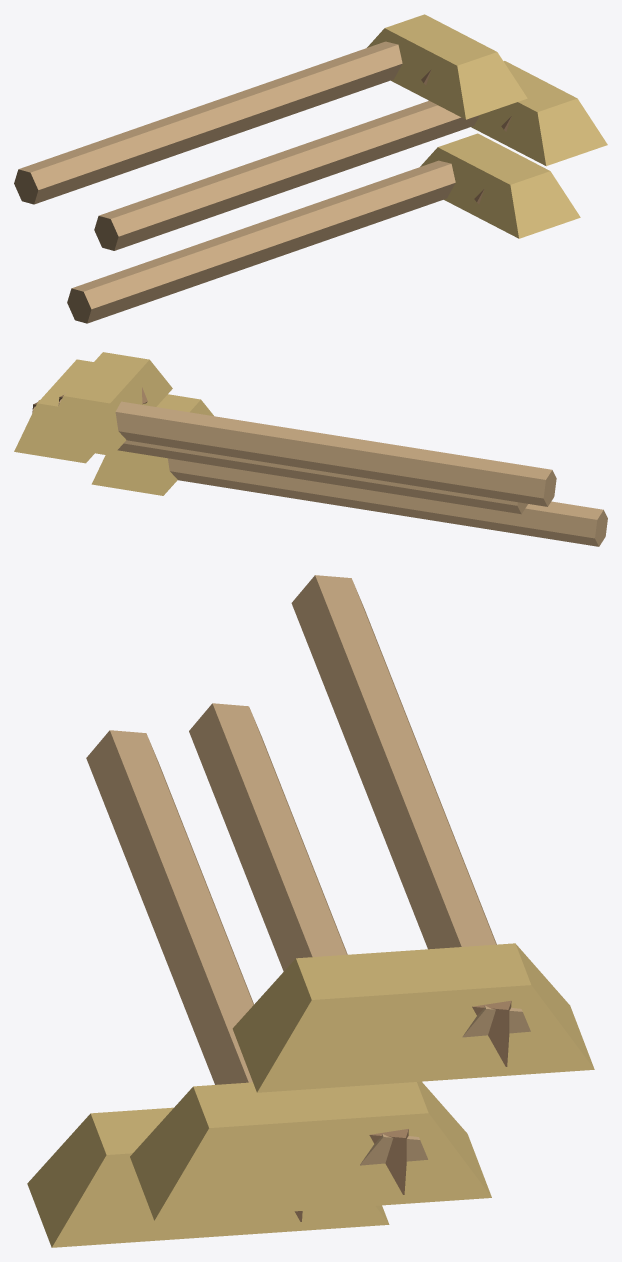
Rendered from item_083_bronze_axe_m.glb.
3 renders of one model, top to bottom at view 1: azimuth 30°, elevation 25°; view 2: azimuth 150°, elevation 25°; view 3: azimuth 270°, elevation 25°, orthographic. The views are drawn at different scales.
Visible parts, largest first — view 1: item_083_bronze_axe_m; view 2: item_083_bronze_axe_m; view 3: item_083_bronze_axe_m.
Part boxes in pixels (x1,y1,x2,y2): item_083_bronze_axe_m: [14, 14, 607, 323]; item_083_bronze_axe_m: [14, 352, 607, 546]; item_083_bronze_axe_m: [27, 575, 594, 1247].
Size of the model in its own units: 0.7039 by 0.1594 by 0.3318.
